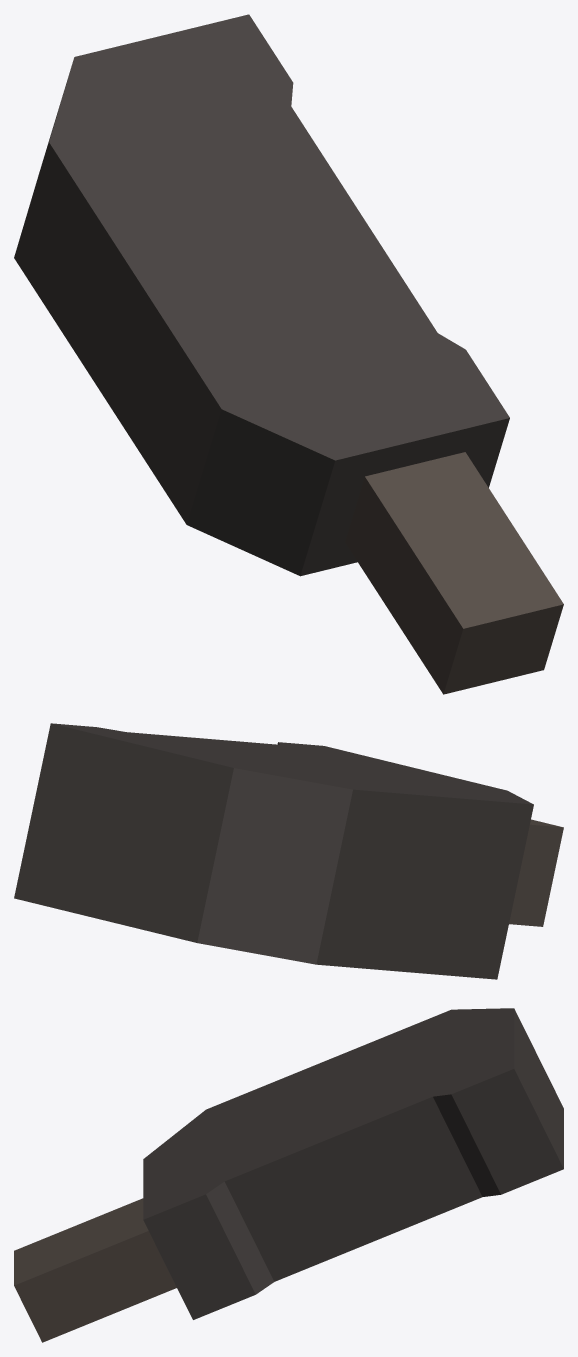
The model's file is AssaultRifle2_02_4.fbx.
The picture shows the model from 3 angles, top to bottom: view 1: azimuth 30°, elevation 25°; view 2: azimuth 150°, elevation 25°; view 3: azimuth 270°, elevation 25°; orthographic projection. The views are drawn at different scales.
Visible parts, largest first — view 1: AssaultRifle2_02_4; view 2: AssaultRifle2_02_4; view 3: AssaultRifle2_02_4.
Part boxes in pixels (x1=…): AssaultRifle2_02_4: x1=14, y1=14, x2=563, y2=694; AssaultRifle2_02_4: x1=14, y1=723, x2=563, y2=979; AssaultRifle2_02_4: x1=14, y1=1008, x2=563, y2=1342.
Size of the model in its own units: 0.0146 by 0.0231 by 0.0401.
